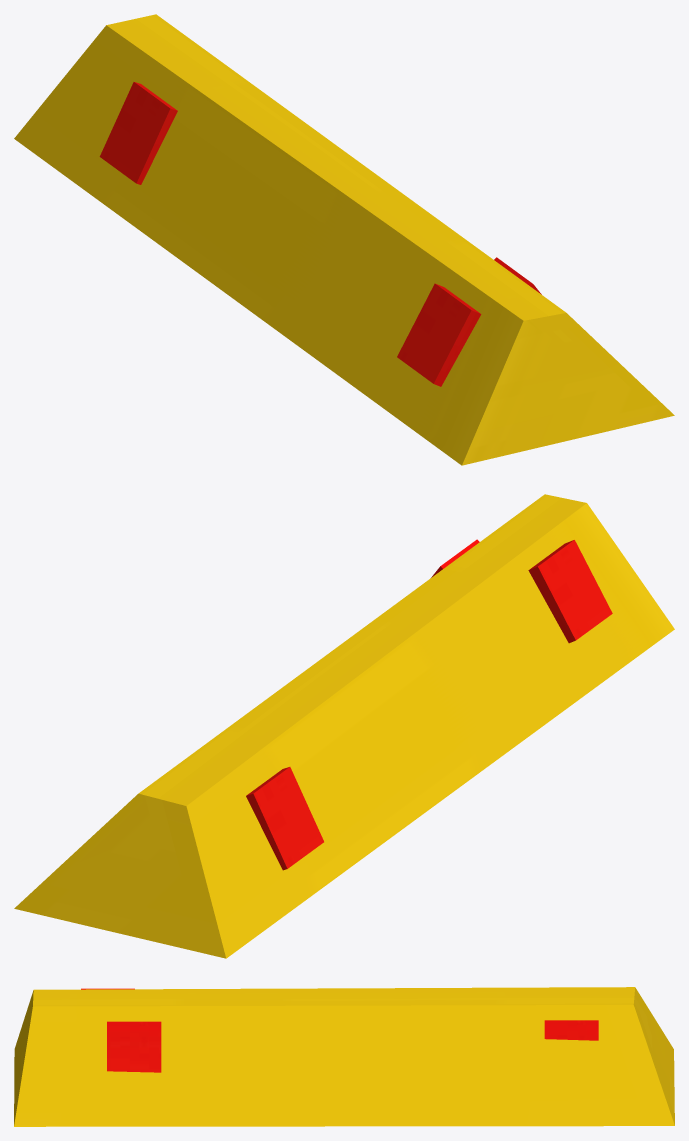
File: TopeCiclovia.glb
The picture shows the model from 3 angles, top to bottom: view 1: azimuth 30°, elevation 25°; view 2: azimuth 150°, elevation 25°; view 3: azimuth 270°, elevation 25°; orthographic projection. The views are drawn at different scales.
Visible parts, largest first — view 1: Cubo.005, Cubo.007, Cubo.006; view 2: Cubo.005, Cubo.007, Cubo.006; view 3: Cubo.005, Cubo.008, Cubo.009.
Part boxes in pixels (box(x1,y1,x2,y2)): Cubo.005: box(14, 14, 674, 465); Cubo.007: box(397, 283, 481, 386); Cubo.006: box(99, 82, 177, 184); Cubo.005: box(14, 494, 674, 958); Cubo.007: box(528, 540, 612, 643); Cubo.006: box(246, 767, 323, 870); Cubo.005: box(14, 987, 674, 1126); Cubo.008: box(107, 1021, 161, 1072); Cubo.009: box(544, 1020, 598, 1040).
Bounding box in the file's own units: 1.66 × 0.885 × 6.06.
Materials: 5 (5 with a texture image).
